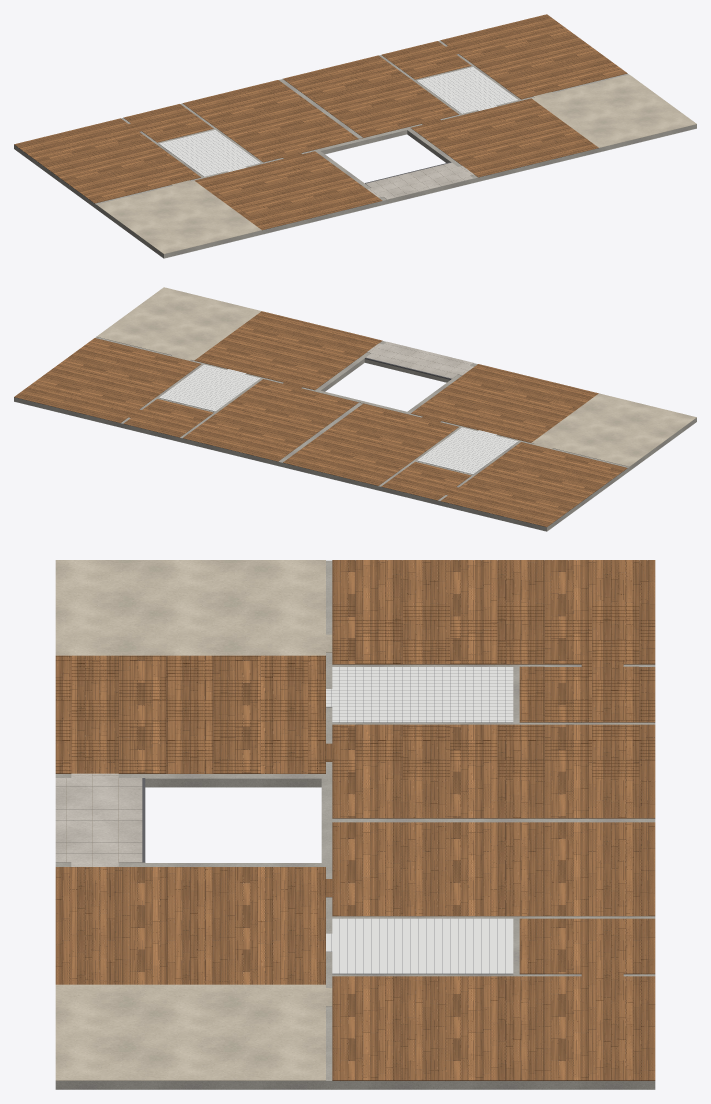
The model's file is slab_t1.glb.
3 renders of one model, top to bottom at view 1: azimuth 30°, elevation 25°; view 2: azimuth 150°, elevation 25°; view 3: azimuth 270°, elevation 25°, orthographic. The views are drawn at different scales.
Parts seen in each view (by area): view 1: slab_t1_wood_f, slab_t1_vinyl_f, slab_t1_conc_s, slab_t1_tile_hex, slab_t1_terrazzo, slab_t1_ceil; view 2: slab_t1_wood_f, slab_t1_vinyl_f, slab_t1_conc_s, slab_t1_tile_hex, slab_t1_terrazzo, slab_t1_ceil; view 3: slab_t1_wood_f, slab_t1_vinyl_f, slab_t1_tile_hex, slab_t1_conc_s, slab_t1_dkwood, slab_t1_terrazzo, slab_t1_grille.
Boxes of the visible parts, box(x1,y1,x2,y2) form: slab_t1_wood_f: box(14, 14, 627, 230); slab_t1_vinyl_f: box(96, 74, 696, 254); slab_t1_conc_s: box(14, 40, 696, 258); slab_t1_tile_hex: box(159, 67, 517, 176); slab_t1_terrazzo: box(365, 162, 473, 199); slab_t1_ceil: box(14, 128, 696, 258); slab_t1_wood_f: box(14, 311, 627, 526); slab_t1_vinyl_f: box(96, 287, 696, 466); slab_t1_conc_s: box(14, 337, 696, 531); slab_t1_tile_hex: box(159, 364, 517, 474); slab_t1_terrazzo: box(365, 341, 473, 378); slab_t1_ceil: box(14, 362, 696, 531); slab_t1_wood_f: box(55, 560, 655, 1080); slab_t1_vinyl_f: box(55, 560, 332, 1080); slab_t1_tile_hex: box(326, 667, 513, 973); slab_t1_conc_s: box(55, 560, 655, 1089); slab_t1_dkwood: box(56, 560, 655, 1080); slab_t1_terrazzo: box(55, 773, 144, 866); slab_t1_grille: box(326, 667, 512, 974).
Size of the model in its own units: 23.4 by 0.293 by 11.4.
12 materials, 7 textured.
